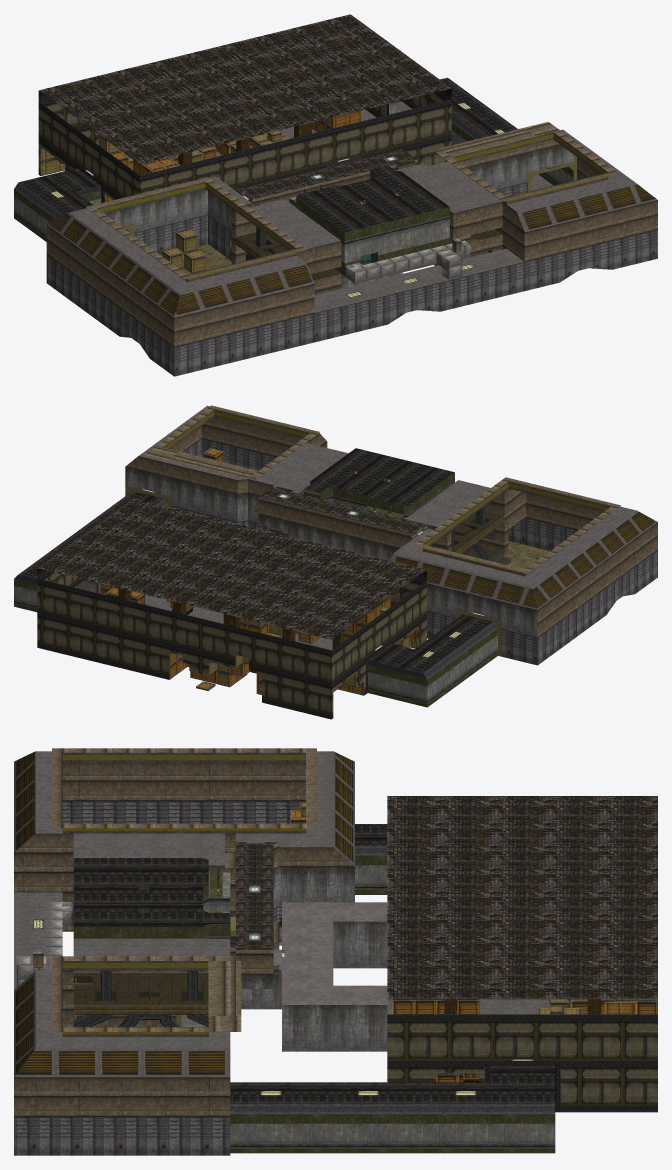
File: hl_map.gltf
The picture shows the model from 3 angles, top to bottom: view 1: azimuth 30°, elevation 25°; view 2: azimuth 150°, elevation 25°; view 3: azimuth 270°, elevation 25°; orthographic projection. The views are drawn at different scales.
Visible parts, largest first — view 1: hl_mp_stalkyard; view 2: hl_mp_stalkyard; view 3: hl_mp_stalkyard.
Part boxes in pixels (x1,y1,x2,y2): hl_mp_stalkyard: (14,14,657,376); hl_mp_stalkyard: (14,405,657,719); hl_mp_stalkyard: (14,748,657,1155).
Bounding box in the file's own units: 2208 × 376 × 1904.
68 materials, 68 textured.
